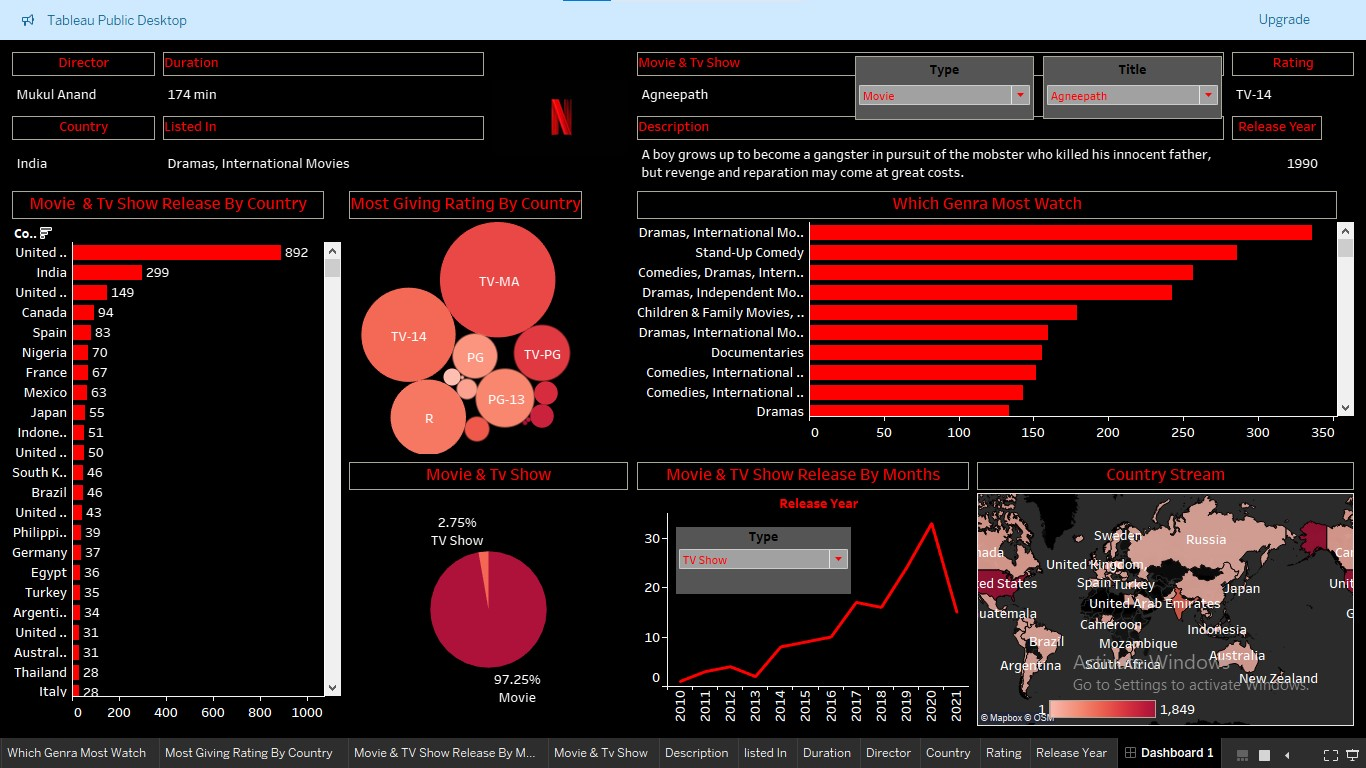

What the dashboard file says about the page in this screenshot:
{"tool":"tableau","page":{"name":"Dashboard 1","canvas":[1000,1000],"units":"permille","ordinal":0},"visuals":[{"type":"worksheet","title":"Director","mark":"Automatic","box":[6,14.5,110.3,90.4]},{"type":"worksheet","title":"Duration","mark":"Automatic","box":[116.3,14.5,241,90.4]},{"type":"image","param":"C:/Users/HP/Downloads/download.jpg","box":[357.2,14.5,106.2,197.3]},{"type":"worksheet","title":"Movie & Tv Show","mark":"Automatic","box":[463.4,14.5,435.5,90.4]},{"type":"worksheet","title":"Rating","mark":"Automatic","box":[898.9,14.5,95.1,90.4]},{"type":"filter","title":"Movie & Tv Show","param":"[federated.1tv45wn1u47pbl11r582y0ikca7t].[none:type:nk]","box":[626.1,23.6,131.3,92.4]},{"type":"filter","title":"Movie & Tv Show","param":"[federated.1tv45wn1u47pbl11r582y0ikca7t].[none:title:nk]","box":[763.4,23.6,131.3,90.6]},{"type":"worksheet","title":"Country","mark":"Automatic","box":[6,104.9,110.3,106.9]},{"type":"worksheet","title":"listed In","mark":"Automatic","box":[116.3,104.9,241,106.9]},{"type":"worksheet","title":"Description","mark":"Automatic","box":[463.4,104.9,435.5,106.9]},{"type":"worksheet","title":"Release Year","mark":"Automatic","box":[898.9,104.9,95.1,106.9]},{"type":"worksheet","title":"Movies & Tv show release by country","mark":"Automatic","rows":["country"],"cols":["date_added"],"box":[6,211.8,246.9,773.7]},{"type":"worksheet","title":"Most Giving Rating By Country","mark":"Circle","box":[252.9,211.8,210.2,386.8]},{"type":"worksheet","title":"Which Genra Most Watch","mark":"Automatic","rows":["listed_in"],"cols":["show_id"],"box":[463.1,211.8,531,386.8]},{"type":"worksheet","title":"Movie & Tv show","mark":"Pie","box":[252.9,598.6,210.2,386.9]},{"type":"worksheet","title":"Movie & TV Show Release By Monthss","mark":"Automatic","rows":["title"],"cols":["release_year"],"box":[463.1,598.6,248.9,386.9]},{"type":"worksheet","title":"Map","mark":"Multipolygon","box":[712,598.6,282,386.9]},{"type":"filter","title":"Movie & TV Show Release By Monthss","param":"[federated.1tv45wn1u47pbl11r582y0ikca7t].[none:type:nk]","box":[495.2,697.5,128.1,96]},{"type":"legend","title":"Map","param":"[federated.1tv45wn1u47pbl11r582y0ikca7t].[cnt:show_id:qk]","box":[756.7,913,121.2,63.4]}]}

Visuals, with their boxes on the dashboard's canvas, which has no fixed pixel size, in thousandths of its width and height (x1, y1, x2, y2). These are canvas units, not pixel positions in the 1366x768 screenshot, which may show the page scaled, cropped or inside an application window:
"Director" worksheet: x1=6 y1=14 x2=116 y2=105
"Duration" worksheet: x1=116 y1=14 x2=357 y2=105
image: x1=357 y1=14 x2=463 y2=212
"Movie & Tv Show" worksheet: x1=463 y1=14 x2=899 y2=105
"Rating" worksheet: x1=899 y1=14 x2=994 y2=105
"Movie & Tv Show" filter: x1=626 y1=24 x2=757 y2=116
"Movie & Tv Show" filter: x1=763 y1=24 x2=895 y2=114
"Country" worksheet: x1=6 y1=105 x2=116 y2=212
"listed In" worksheet: x1=116 y1=105 x2=357 y2=212
"Description" worksheet: x1=463 y1=105 x2=899 y2=212
"Release Year" worksheet: x1=899 y1=105 x2=994 y2=212
"Movies & Tv show release by country" worksheet: x1=6 y1=212 x2=253 y2=986
"Most Giving Rating By Country" worksheet (Circle marks): x1=253 y1=212 x2=463 y2=599
"Which Genra Most Watch" worksheet: x1=463 y1=212 x2=994 y2=599
"Movie & Tv show" worksheet (Pie marks): x1=253 y1=599 x2=463 y2=986
"Movie & TV Show Release By Monthss" worksheet: x1=463 y1=599 x2=712 y2=986
"Map" worksheet (Multipolygon marks): x1=712 y1=599 x2=994 y2=986
"Movie & TV Show Release By Monthss" filter: x1=495 y1=698 x2=623 y2=794
"Map" legend: x1=757 y1=913 x2=878 y2=976
